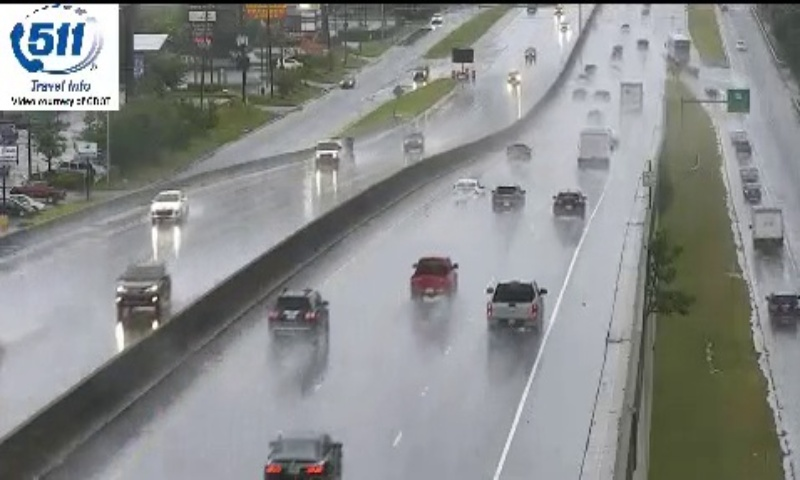car: (262, 434, 343, 480), (487, 280, 543, 327), (269, 291, 326, 333), (411, 257, 456, 297), (553, 190, 585, 217), (492, 182, 523, 209)
